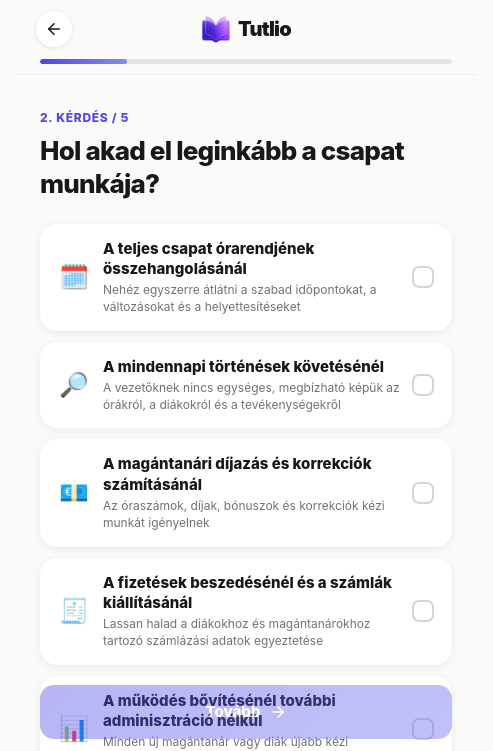
Hungarian quiz interface › retains Hungarian on the business challenge-to-insight transition
Expected: the button with test id "floating-proceed" is disabled, x1=40 y1=685 x2=452 y2=739
Click the checkbox labelled "A teljes csapat órarendjének összehangolásánál" at (246, 277), box x1=40 y1=224 x2=452 y2=331
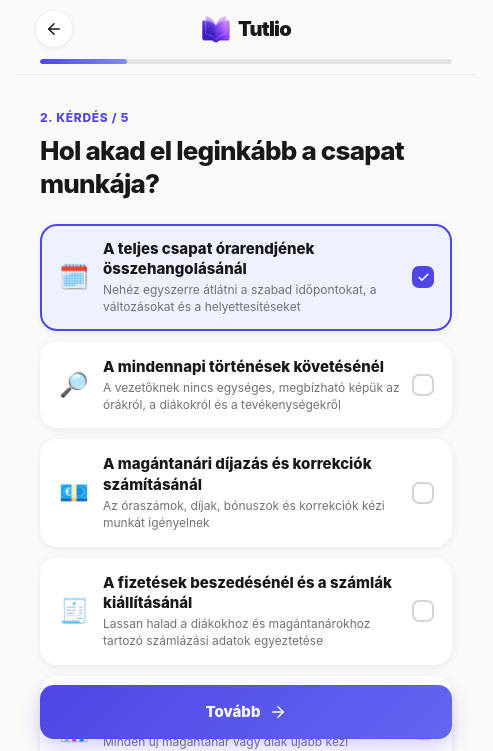
Click the checkbox labelled "A magántanári díjazás és korrekciók számításánál" at (237, 464), box x1=40 y1=439 x2=452 y2=546
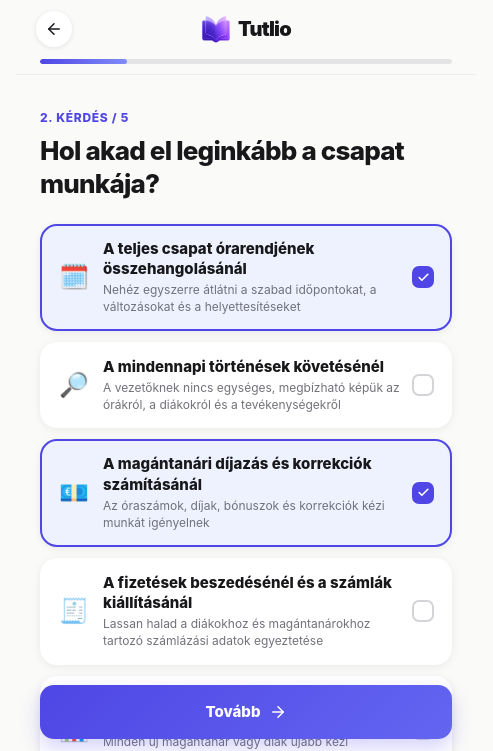
Result: the button with test id "floating-proceed" is enabled
Click the button with test id "floating-proceed" at (246, 712), box x1=40 y1=685 x2=452 y2=739
Wait 500 ms
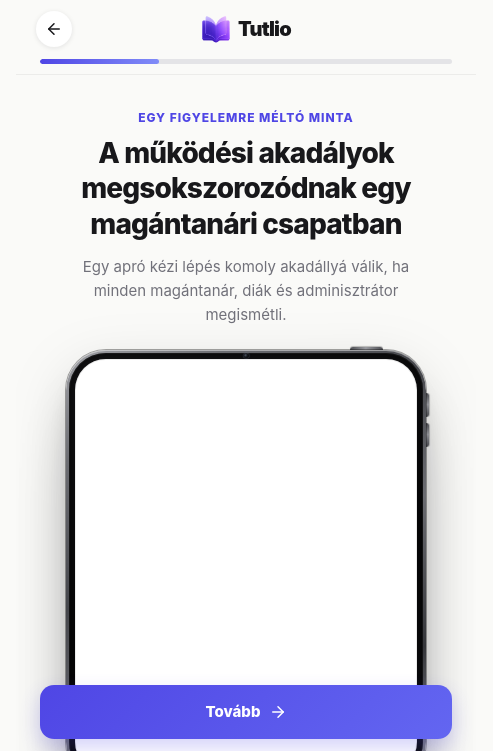
Result: the heading "A működési akadályok megsokszorozódnak egy magántanári csapatban" is shown at x1=81 y1=136 x2=411 y2=240
